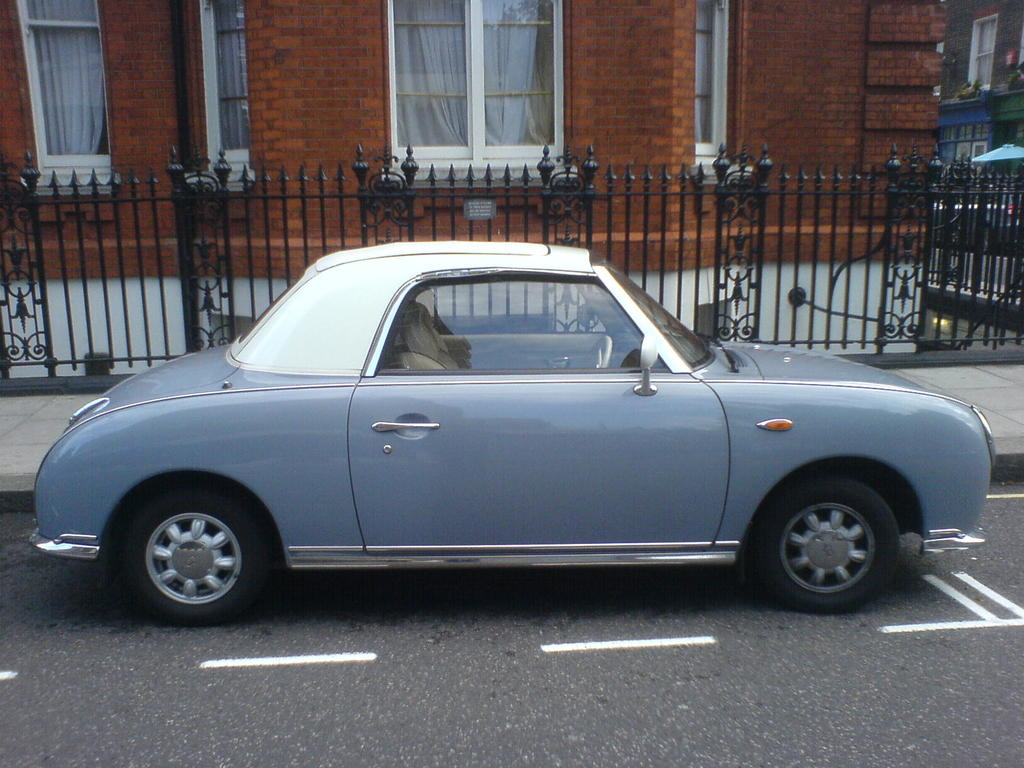Car: (19, 243, 991, 623)
